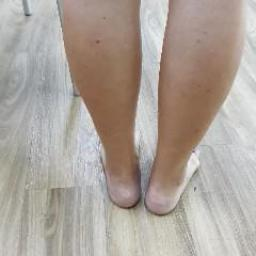Back View -Both Feet-: (82, 115, 220, 224)
